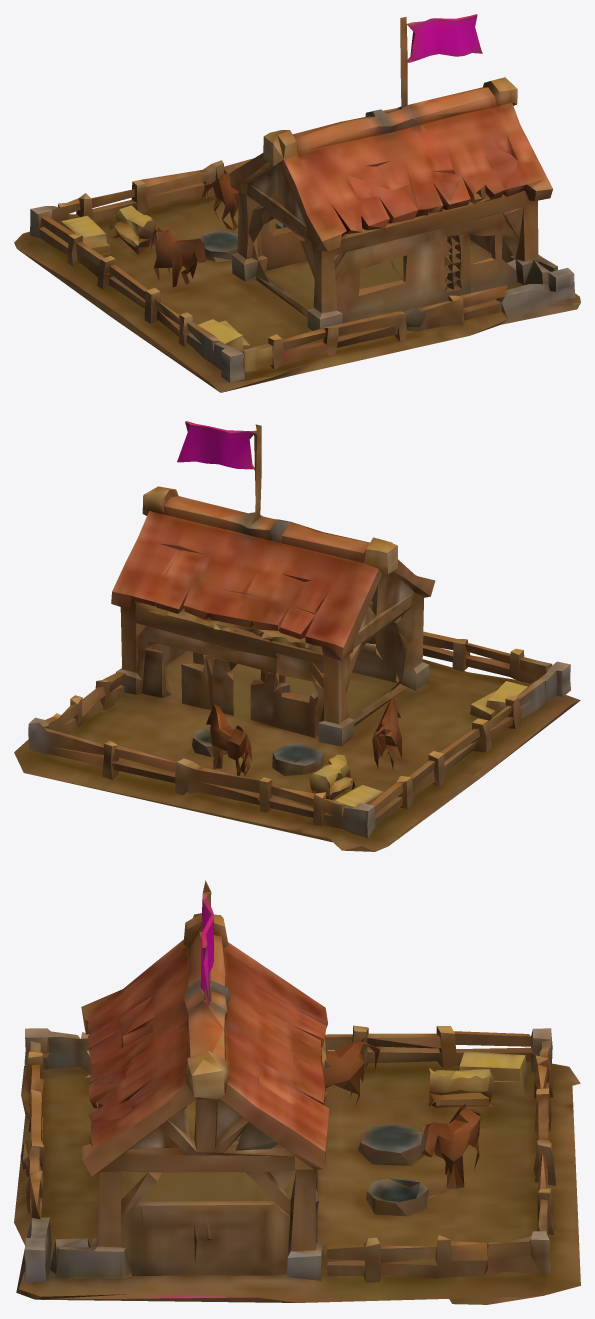
File: stable.lod2.glb
3 views of the same model, one above another, from view 1: azimuth 30°, elevation 25°; view 2: azimuth 150°, elevation 25°; view 3: azimuth 270°, elevation 25° (orthographic). The views are drawn at different scales.
Parts seen in each view (by area): view 1: stable.lod2_uv; view 2: stable.lod2_uv; view 3: stable.lod2_uv.
Part boxes in pixels (x1,y1,x2,y2): stable.lod2_uv: (14, 14, 580, 392); stable.lod2_uv: (14, 421, 580, 851); stable.lod2_uv: (14, 880, 580, 1304).
Size of the model in its own units: 1.91 by 1.27 by 1.89.
1 material, 1 textured.
